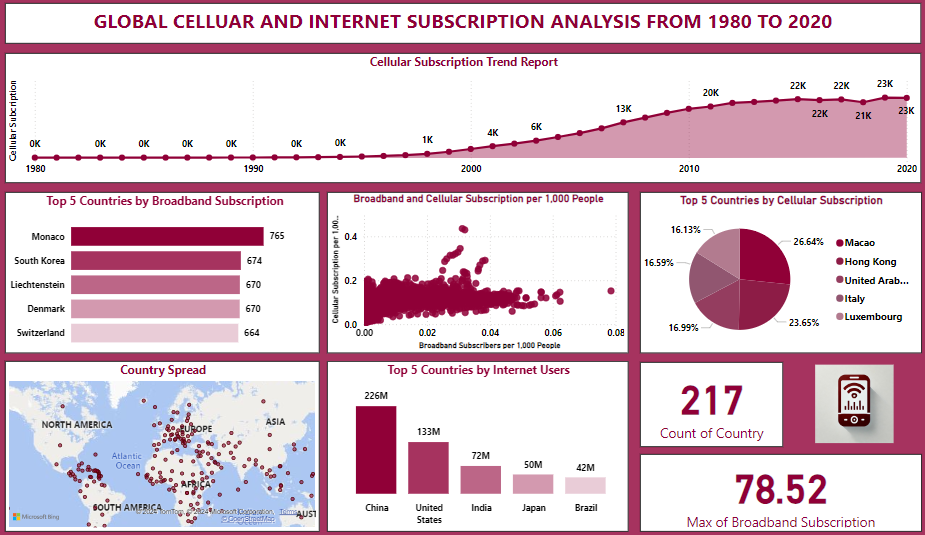

The page's visual inventory and layout, read from the dashboard file:
{"tool":"powerbi","page":{"name":"Page 1","canvas":[1280,750],"ordinal":0},"visuals":[{"type":"areaChart","title":"Cellular Subscription Trend Report","fields":{"Category":["Final.Year"],"Y":["Sum(Final.Cellular Subscription)"]},"box":[9.7,77.8,1261.1,179.2],"z":0},{"type":"textbox","box":[9.7,9.7,1261.1,55.6],"z":1000},{"type":"map","title":"Country Spread","fields":{"Category":["Final.Country"]},"box":[9.7,502.8,433.3,234.7],"z":2001},{"type":"barChart","title":"Top 5 Countries by Broadband Subscription","fields":{"Category":["Final.Country"],"Y":["Sum(Final.Broadband Subscription)"]},"box":[9.7,269.4,433.3,222.2],"z":2002},{"type":"columnChart","title":"Top 5 Countries by Internet Users","fields":{"Category":["Final.Country"],"Y":["Avg(Final.No. of Internet Users)"]},"box":[452.8,502.8,415.3,234.7],"z":2003},{"type":"scatterChart","title":"Broadband and Cellular Subscription per 1,000 People","fields":{"X":["Final.Broadband Subscribers per 1,000 People"],"Y":["Final.Cellular Subscription per 1,000 People"]},"box":[452.8,269.4,415.3,222.2],"z":2004},{"type":"pieChart","title":"Top 5 Countries by Cellular Subscription","fields":{"Category":["Final.Country"],"Y":["Sum(Final.Cellular Subscription)"]},"box":[883.3,269.4,387.5,222.2],"z":2005},{"type":"card","fields":{"Values":["Max(Final.Broadband Subscription)"]},"box":[883.3,630.6,387.5,106.9],"z":2006},{"type":"card","fields":{"Values":["Count(Final.Country)"]},"box":[883.3,504.2,197.2,116.7],"z":2007},{"type":"image","box":[1077.7,502.4,202.3,118.4],"z":2008}]}

Visuals, with their boxes in screenshot pixels (x1, y1, x2, y2), scaled from the page's 1280x750 canvas onto the 925x535 screenshot:
"Cellular Subscription Trend Report" areaChart: box=[7, 55, 918, 183]
textbox: box=[7, 7, 918, 47]
"Country Spread" map: box=[7, 359, 320, 526]
"Top 5 Countries by Broadband Subscription" barChart: box=[7, 192, 320, 351]
"Top 5 Countries by Internet Users" columnChart: box=[327, 359, 627, 526]
"Broadband and Cellular Subscription per 1,000 People" scatterChart: box=[327, 192, 627, 351]
"Top 5 Countries by Cellular Subscription" pieChart: box=[638, 192, 918, 351]
card - Max(Final.Broadband Subscription): box=[638, 450, 918, 526]
card - Count(Final.Country): box=[638, 360, 781, 443]
image: box=[779, 358, 924, 443]
